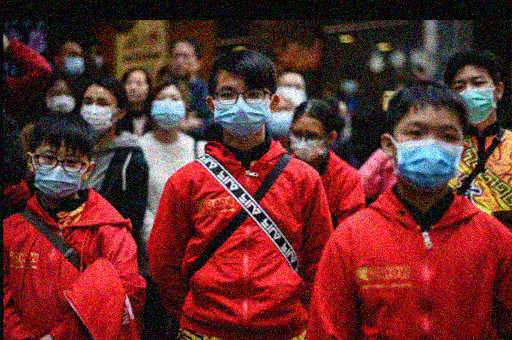with_mask: (393, 119, 465, 187), (212, 83, 271, 138), (32, 145, 89, 197), (450, 74, 495, 125), (81, 94, 117, 134), (290, 127, 327, 161), (150, 93, 185, 127), (265, 101, 295, 138), (274, 79, 308, 107), (47, 89, 75, 116), (61, 49, 88, 74)
without_mask: (124, 77, 148, 102), (171, 51, 195, 75)
